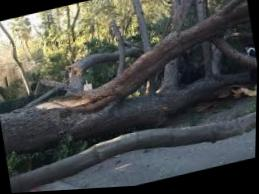Downstairs: (0, 38, 258, 164)
